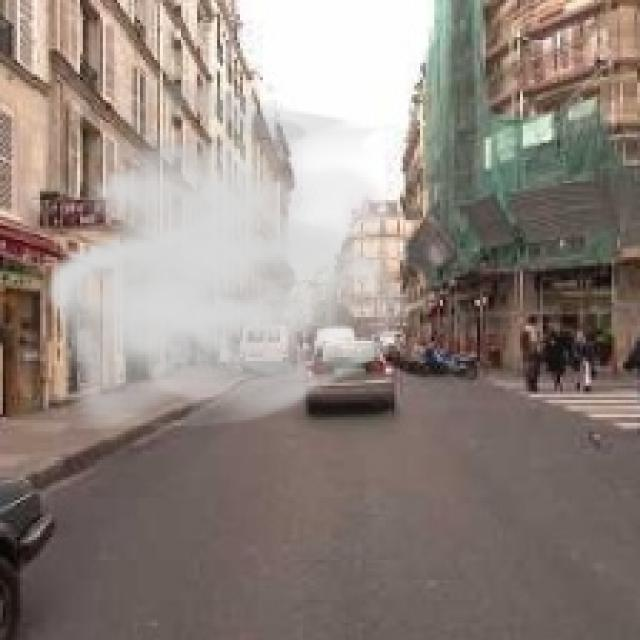Smoke: (43, 68, 423, 440)
